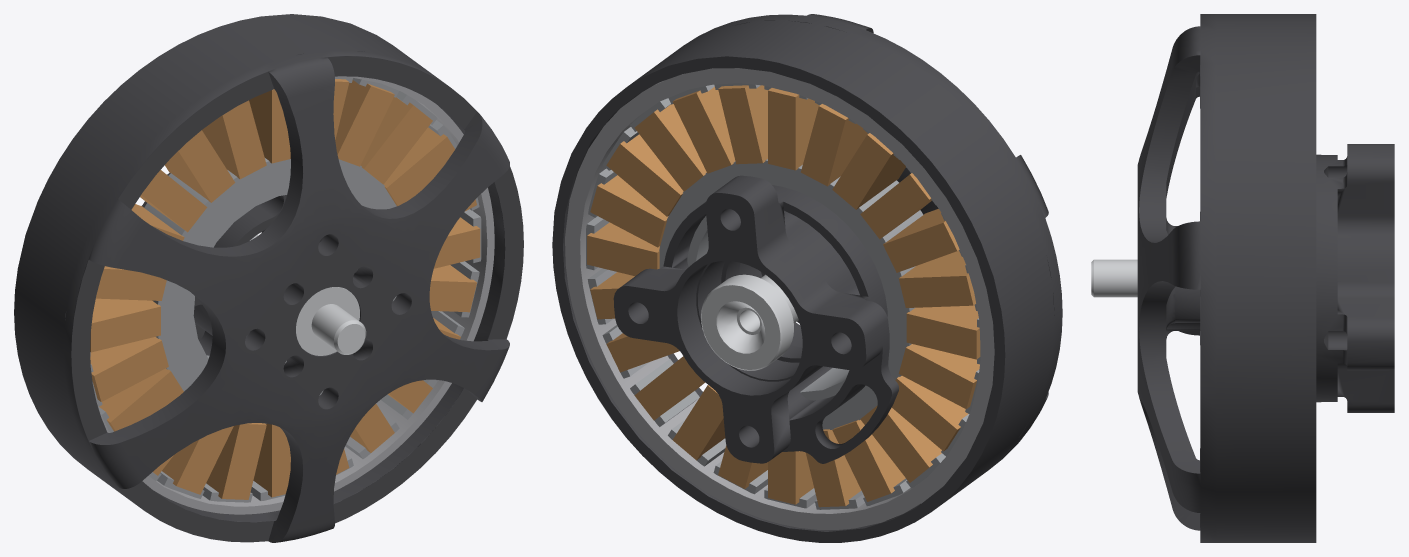
File: motor_lift.glb
The picture shows the model from 3 angles, left to right: view 1: azimuth 30°, elevation 25°; view 2: azimuth 150°, elevation 25°; view 3: azimuth 270°, elevation 25°; orthographic projection.
Visible parts, largest first — view 1: c_111114, enamel, grey_metal, magnet, steel; view 2: c_111114, enamel, magnet, grey_metal, steel; view 3: c_111114, steel.
Part boxes in pixels (x1,y1,x2,y2): c_111114: [14, 14, 523, 542]; enamel: [90, 79, 480, 499]; grey_metal: [90, 77, 481, 502]; magnet: [96, 76, 494, 514]; steel: [250, 235, 366, 355]; c_111114: [552, 14, 1062, 542]; enamel: [587, 85, 980, 507]; magnet: [565, 68, 994, 529]; grey_metal: [586, 83, 980, 509]; steel: [701, 274, 798, 370]; c_111114: [1137, 14, 1394, 542]; steel: [1091, 259, 1137, 297].
Bounding box in the file's own units: 0.0556 × 0.0556 × 0.0319.
